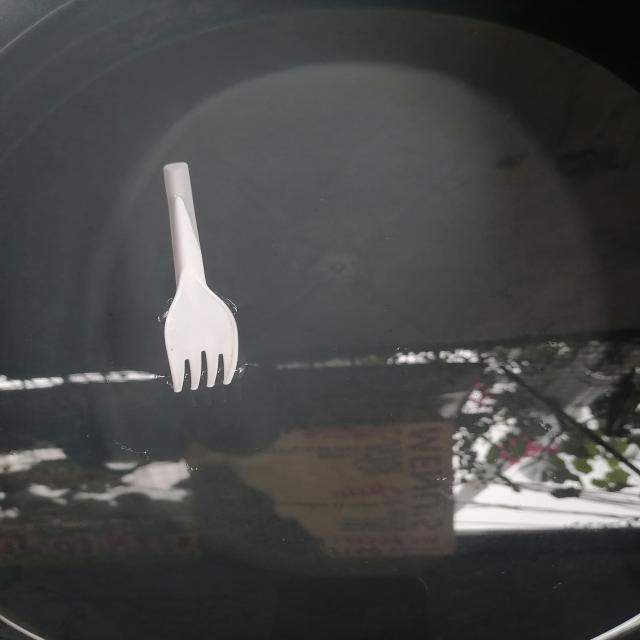Plastic Fork: (128, 149, 260, 402)
